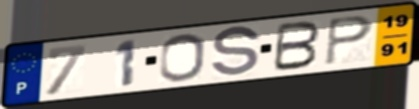1: (114, 37, 137, 87)
7: (46, 42, 90, 97)
B: (270, 19, 324, 73)
O: (157, 32, 207, 83)
P: (324, 14, 376, 68)
S: (209, 23, 264, 80)
